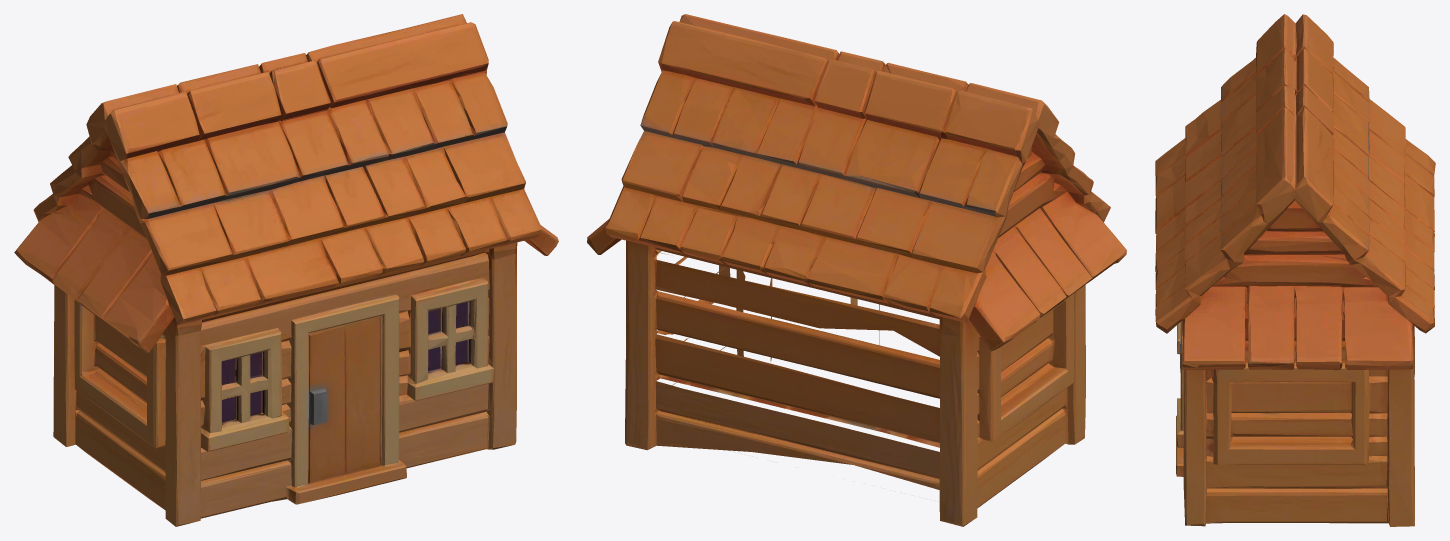
File: wooden_hut.glb
3 views of the same model, side by side, from view 1: azimuth 30°, elevation 25°; view 2: azimuth 150°, elevation 25°; view 3: azimuth 270°, elevation 25° (orthographic). The views are drawn at different scales.
Bounding box in the file's own units: 1.98 × 1.72 × 1.22.
1 material, 1 textured.
